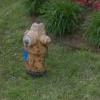Hydrant: (12, 13, 57, 83)
